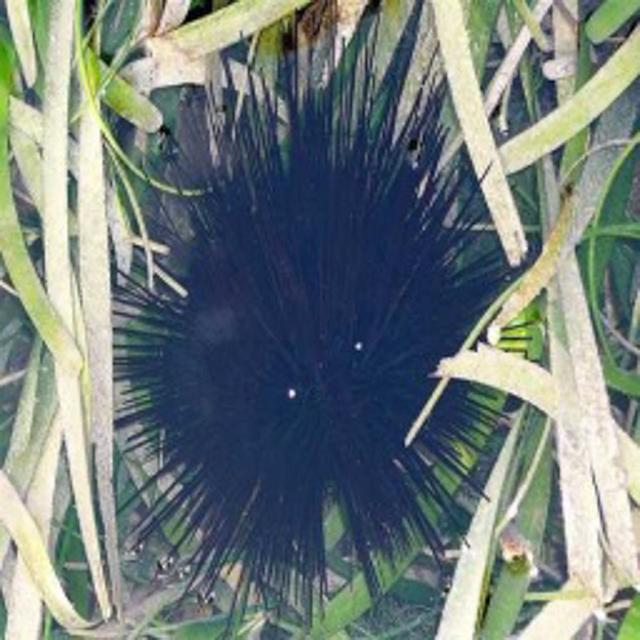Urchin: (104, 10, 547, 608)
